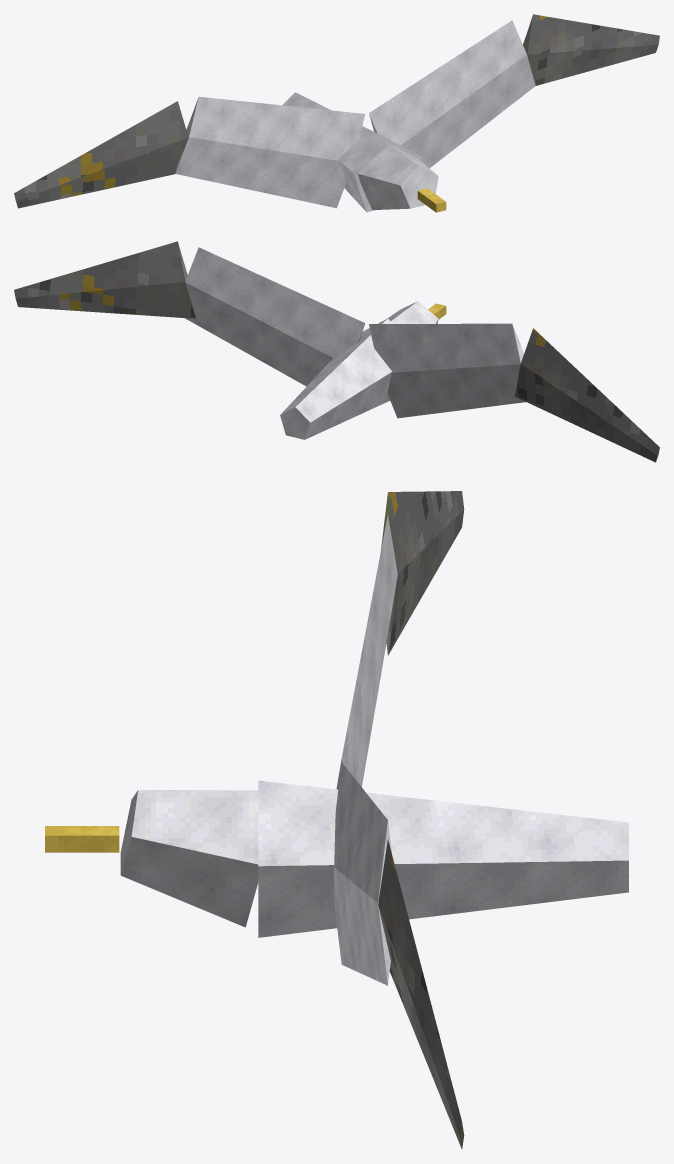
File: gaviota.obj
3 renders of one model, top to bottom at view 1: azimuth 30°, elevation 25°; view 2: azimuth 150°, elevation 25°; view 3: azimuth 270°, elevation 25°, orthographic. The views are drawn at different scales.
Parts seen in each view (by area): view 1: gaviota; view 2: gaviota; view 3: gaviota.
Boxes of the visible parts, x1,y1,x2,y2 form: gaviota: (14,14,659,212); gaviota: (14,241,659,462); gaviota: (45,491,628,1148).
Size of the model in its own units: 1.61 by 0.3211 by 0.63.
3 materials, 3 textured.
